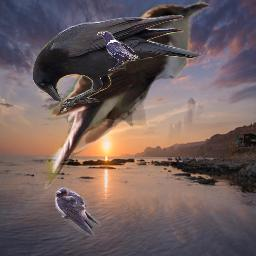Crow: (32, 15, 203, 115), (97, 31, 140, 71)
Cuckoo: (45, 0, 210, 196)
Swallow: (54, 187, 101, 236)
